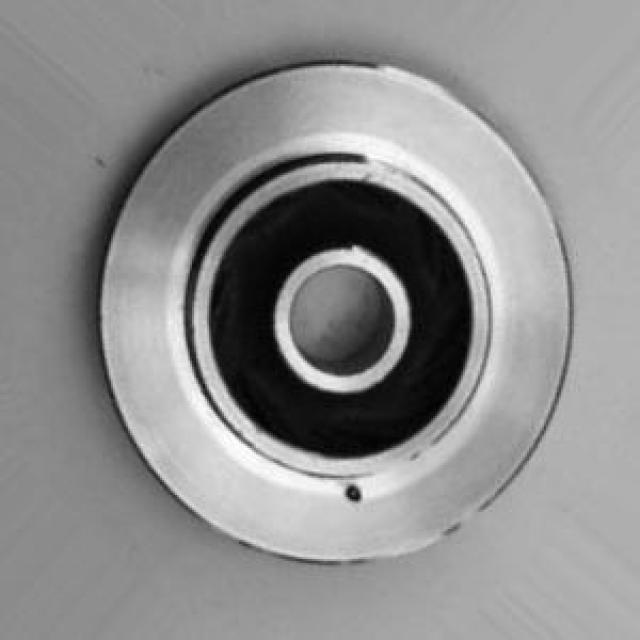Defect: (345, 480, 365, 507)
